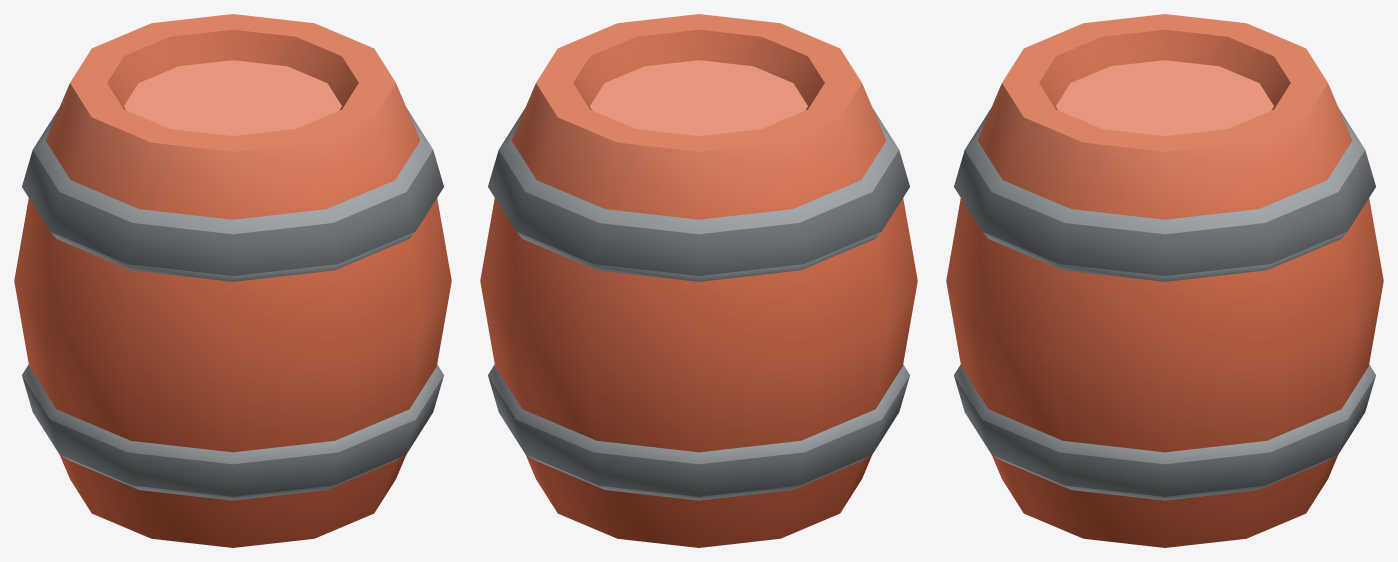
File: barrel_001.glb
The picture shows the model from 3 angles, left to right: view 1: azimuth 30°, elevation 25°; view 2: azimuth 150°, elevation 25°; view 3: azimuth 270°, elevation 25°; orthographic projection.
Parts seen in each view (by area): view 1: barrel_001; view 2: barrel_001; view 3: barrel_001.
Part boxes in pixels (x1,y1,x2,y2): barrel_001: (14,14,451,547); barrel_001: (480,14,917,547); barrel_001: (946,14,1383,547).
Bounding box in the file's own units: 1.14 × 1.14 × 1.14.
Materials: 1 (1 with a texture image).
